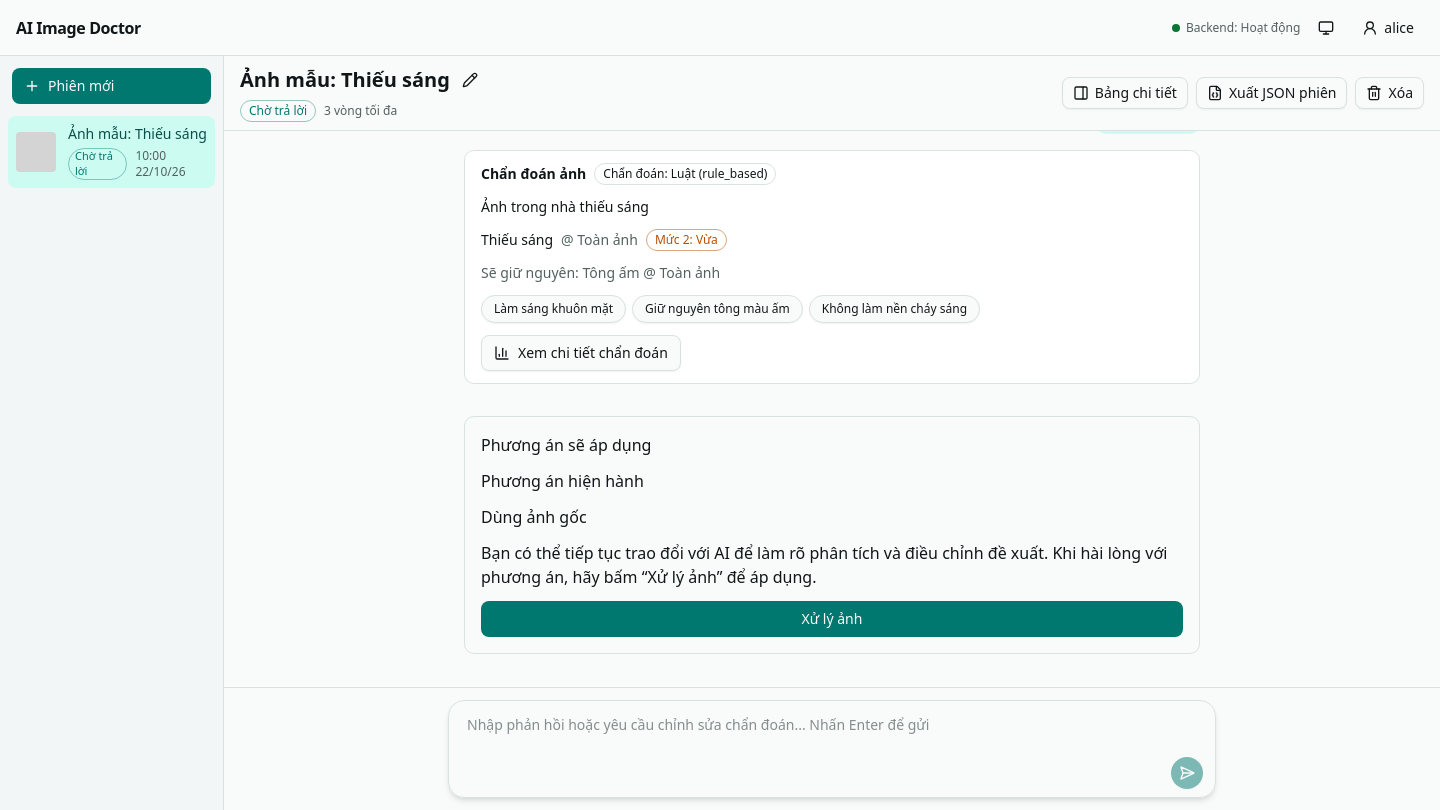
Scenario: session page › deletes after confirmation
(page scrolled)
Click the button "Xóa" at (1390, 93), box x1=1356 y1=77 x2=1424 y2=109
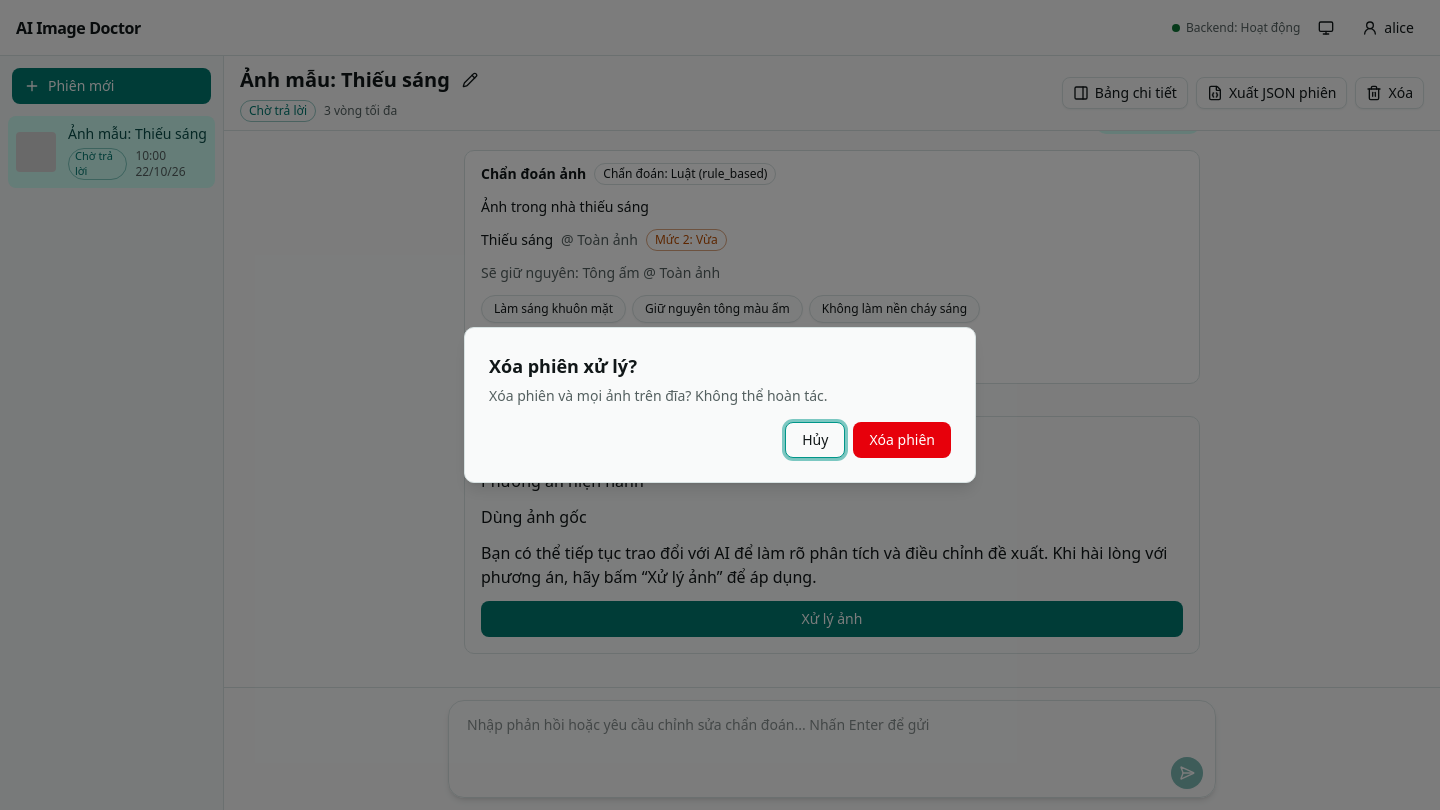
Check: the dialog shows "Không thể hoàn tác.", box x1=489 y1=386 x2=828 y2=405
Click the button "Xóa phiên" at (902, 440), box x1=853 y1=422 x2=951 y2=458
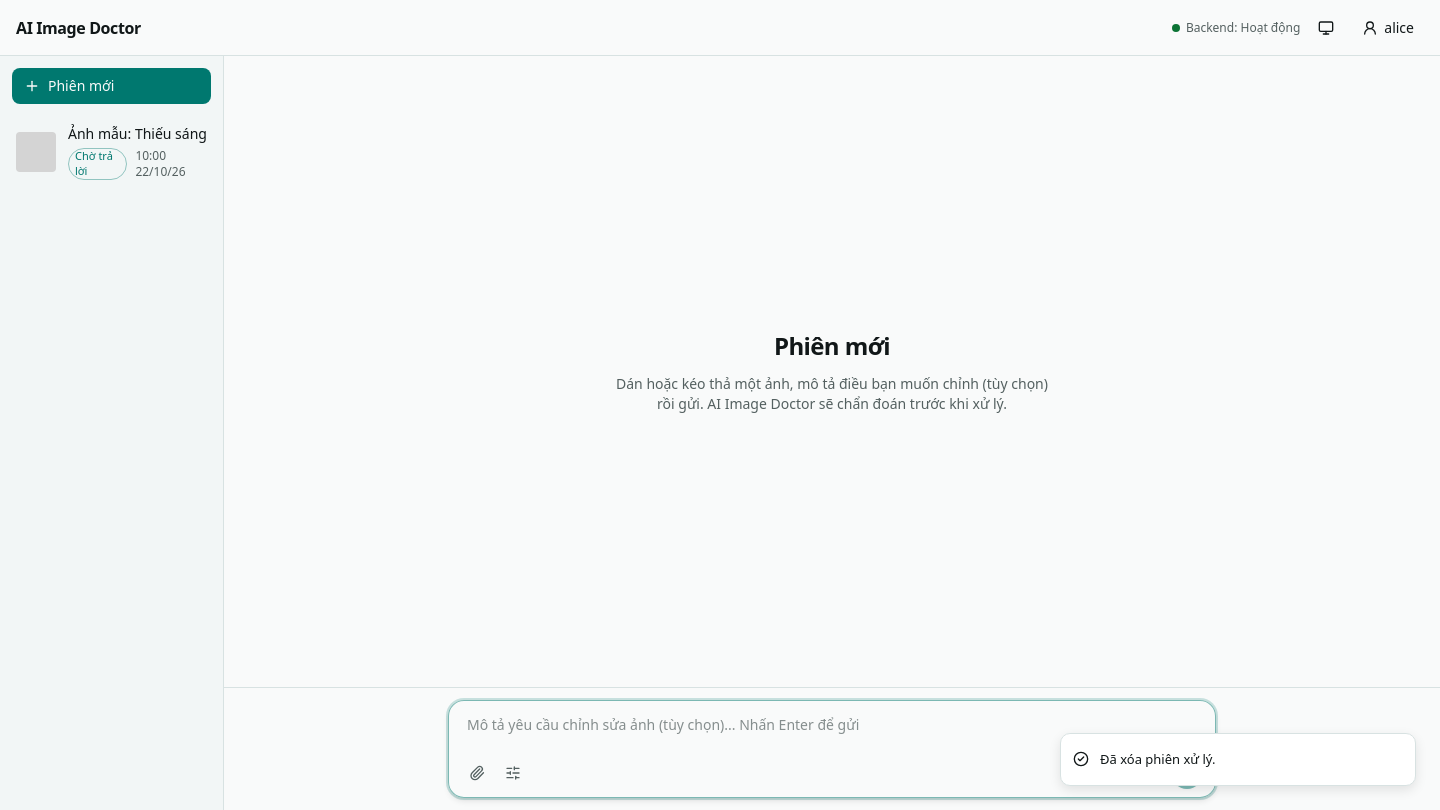
Check: the heading "Phiên mới" is shown, box x1=774 y1=330 x2=890 y2=362
